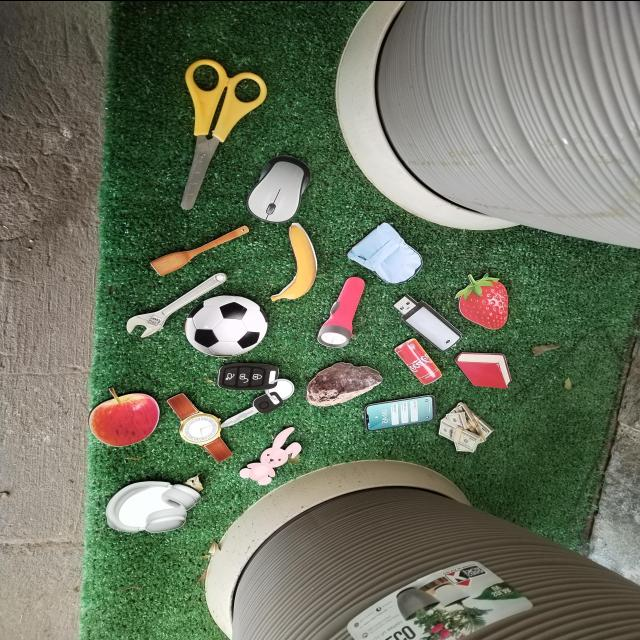Other Objects: (180, 58, 268, 209), (148, 390, 250, 464), (126, 272, 228, 337), (344, 220, 437, 289), (239, 150, 321, 227), (215, 359, 297, 427), (105, 479, 203, 533), (184, 294, 268, 356), (313, 274, 380, 351), (150, 224, 250, 275), (89, 386, 160, 446), (392, 293, 463, 350), (269, 222, 318, 301), (239, 426, 303, 485), (306, 361, 384, 406), (438, 401, 495, 452), (391, 336, 445, 386), (364, 394, 435, 430)
